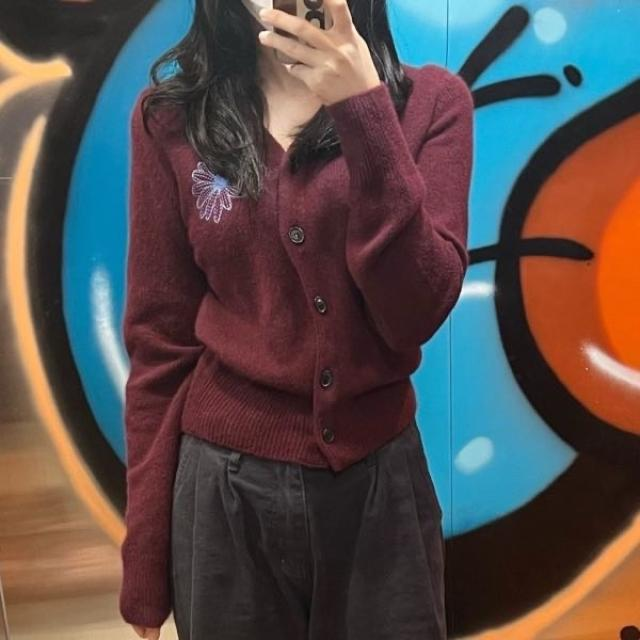cardigan: (118, 61, 476, 629)
denimpants: (171, 412, 446, 640)
